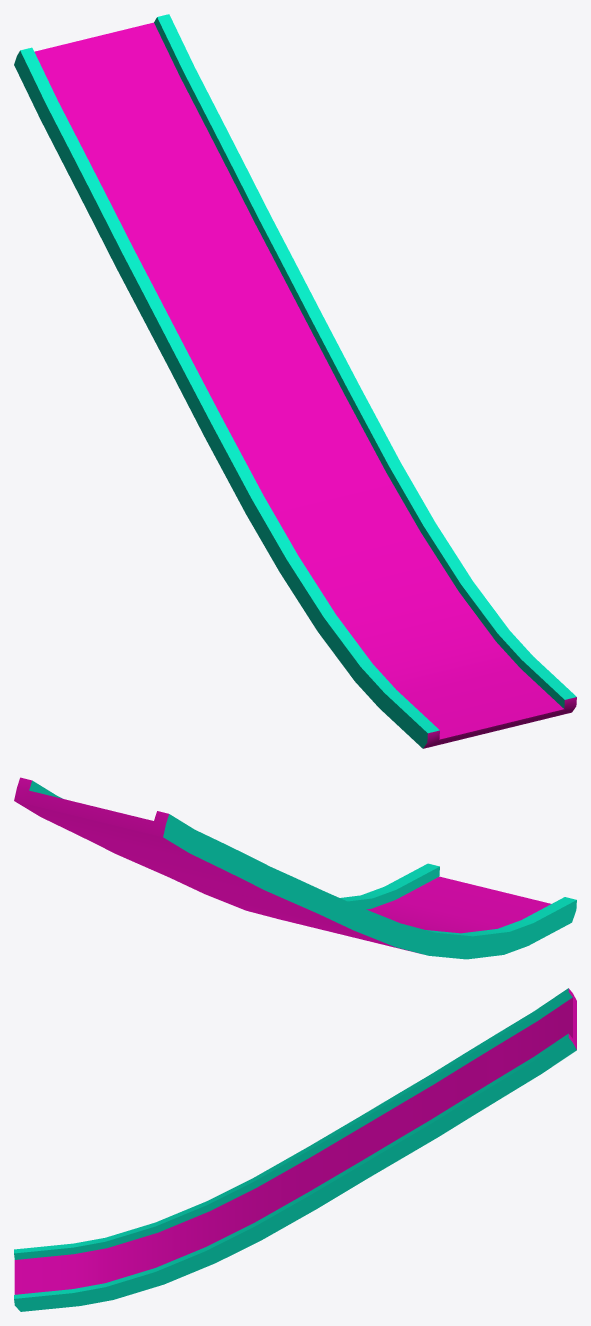
The model's file is ramp2.fbx.
The picture shows the model from 3 angles, top to bottom: view 1: azimuth 30°, elevation 25°; view 2: azimuth 150°, elevation 25°; view 3: azimuth 270°, elevation 25°; orthographic projection. The views are drawn at different scales.
Visible parts, largest first — view 1: Plane; view 2: Plane; view 3: Plane.
Part boxes in pixels (bbox=[...]): Plane: bbox=[14, 14, 576, 748]; Plane: bbox=[14, 777, 576, 959]; Plane: bbox=[14, 988, 576, 1311].
Size of the model in its own units: 200 by 517 by 962.
